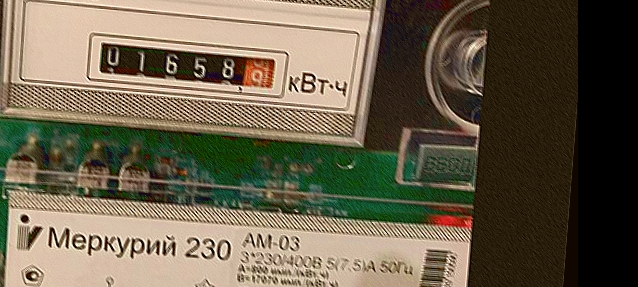0: (105, 43, 120, 66)
1: (135, 48, 146, 71)
5: (191, 54, 207, 78)
6: (162, 51, 178, 74)
8: (219, 55, 235, 78)
9: (247, 66, 262, 88)
screen: (79, 26, 295, 103)
